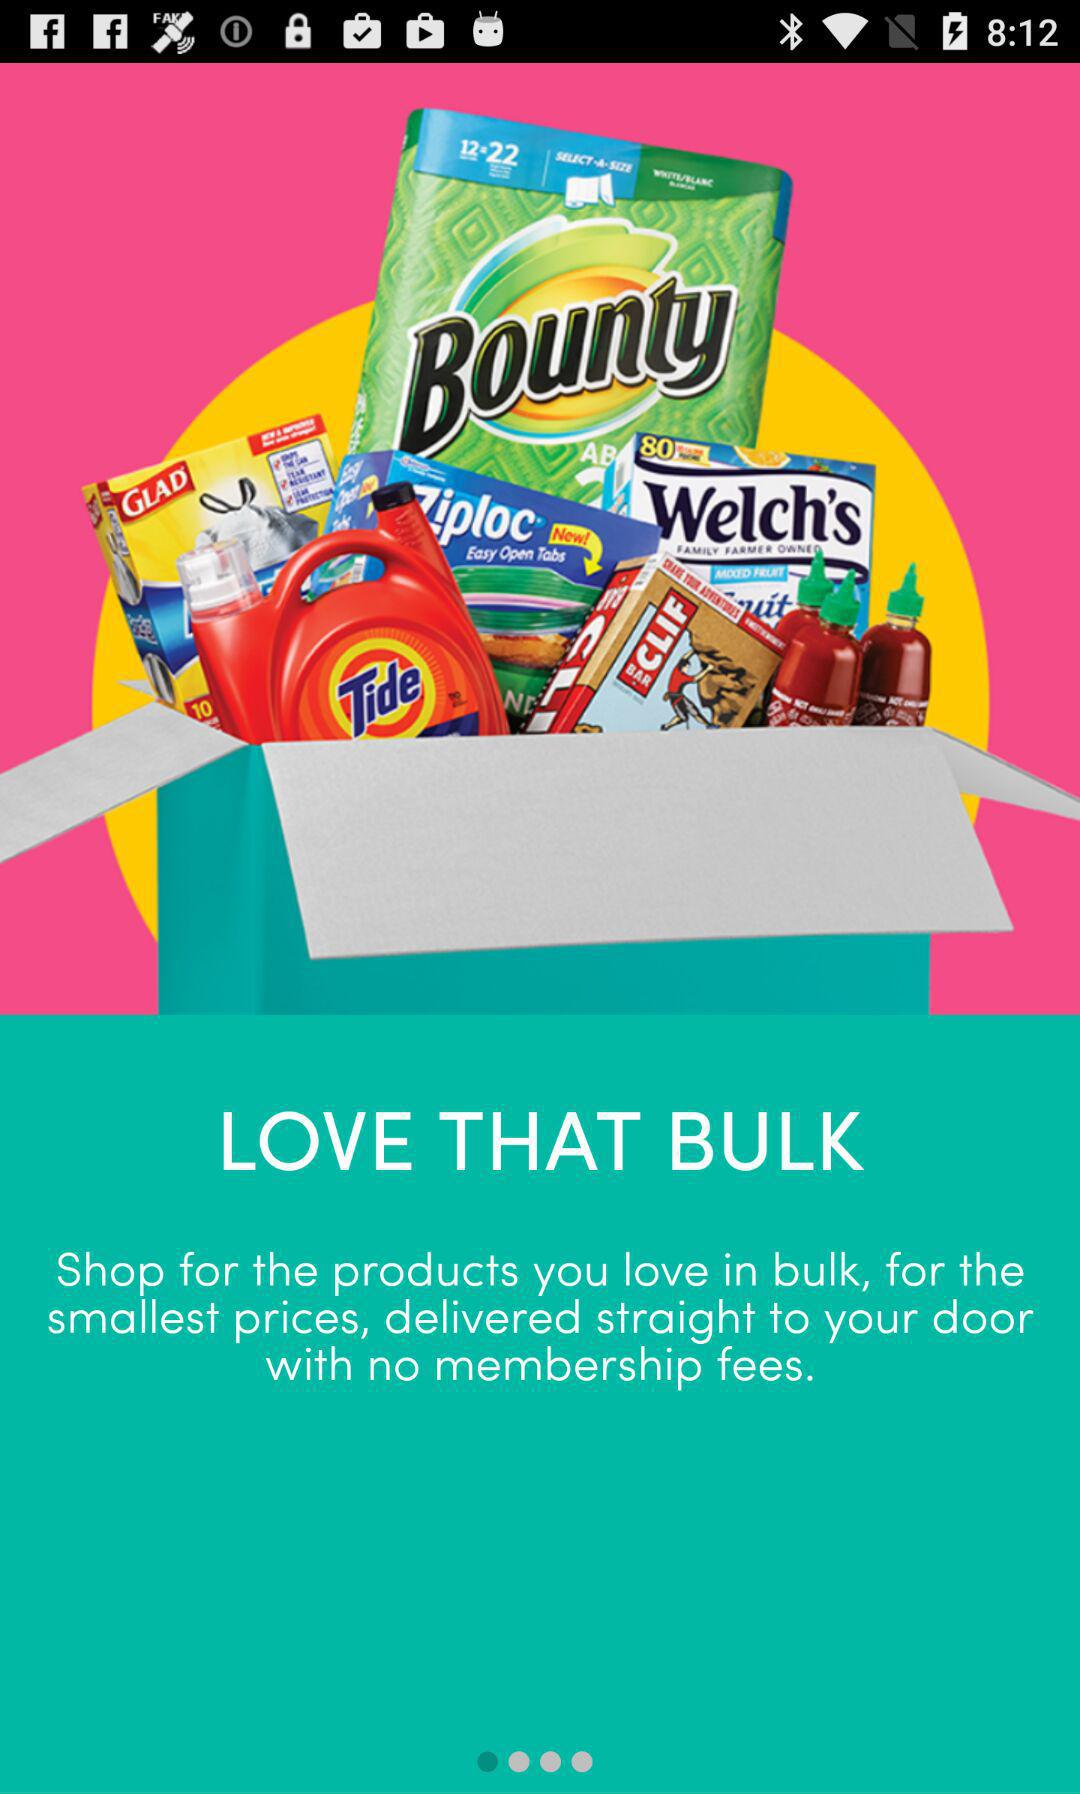Image: (1, 64, 1080, 1014)
PageIndicator: (477, 1750, 594, 1773)
Text: (47, 1251, 1034, 1392), (223, 1111, 865, 1173)
UpperTaskBar: (1, 1, 1080, 64)
